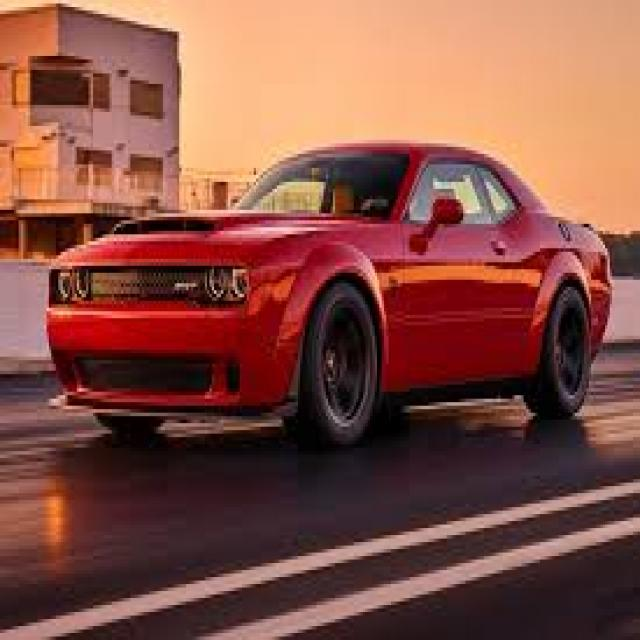Car: (43, 137, 615, 450)
